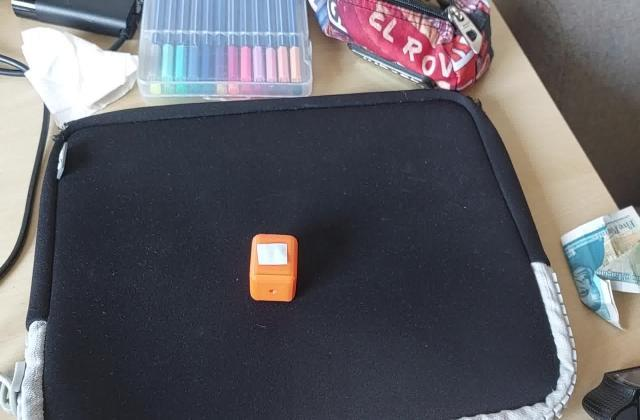sticker: (248, 233, 302, 304)
white: (254, 240, 292, 268)
